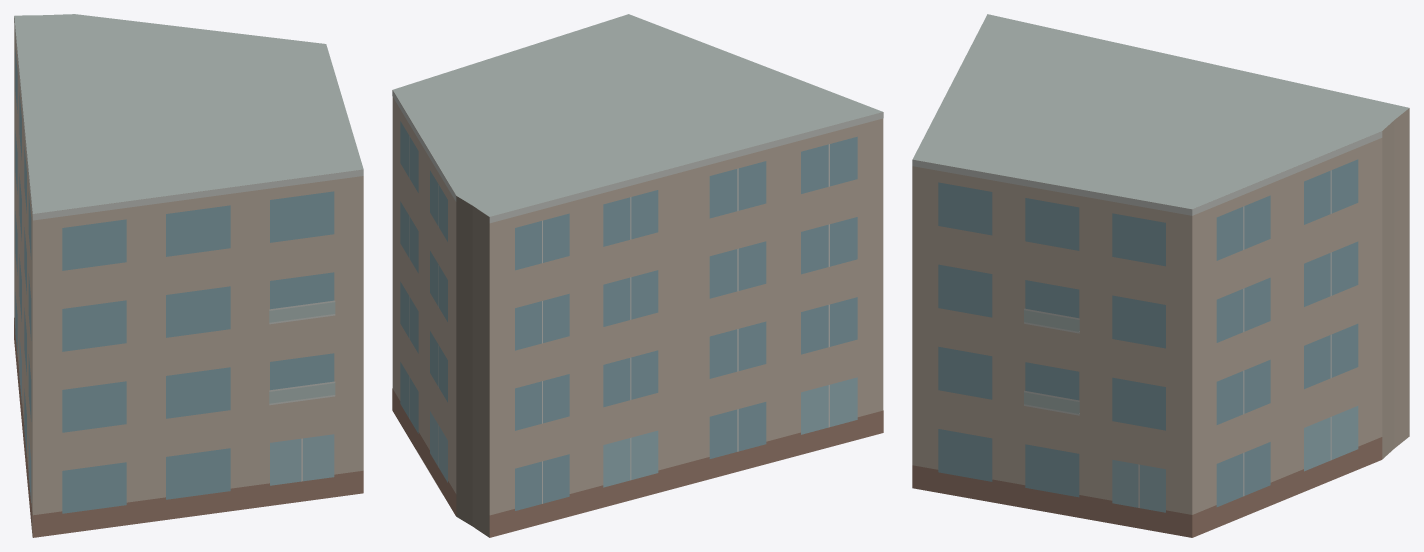
File: residential-42e41026-8dbd-4664-aeb6-59502a4102d9.glb
3 renders of one model, left to right at view 1: azimuth 30°, elevation 25°; view 2: azimuth 150°, elevation 25°; view 3: azimuth 270°, elevation 25°, orthographic. The views are drawn at different scales.
Parts seen in each view (by area): view 1: residential-42e41026-8dbd-4664-aeb6-59502a4102d9.tmp; view 2: residential-42e41026-8dbd-4664-aeb6-59502a4102d9.tmp; view 3: residential-42e41026-8dbd-4664-aeb6-59502a4102d9.tmp.
Boxes of the visible parts, x1,y1,x2,y2 form: residential-42e41026-8dbd-4664-aeb6-59502a4102d9.tmp: (14, 14, 363, 537); residential-42e41026-8dbd-4664-aeb6-59502a4102d9.tmp: (392, 14, 883, 537); residential-42e41026-8dbd-4664-aeb6-59502a4102d9.tmp: (912, 14, 1409, 537).
Bounding box in the file's own units: 15.56 × 12.2 × 16.74.
